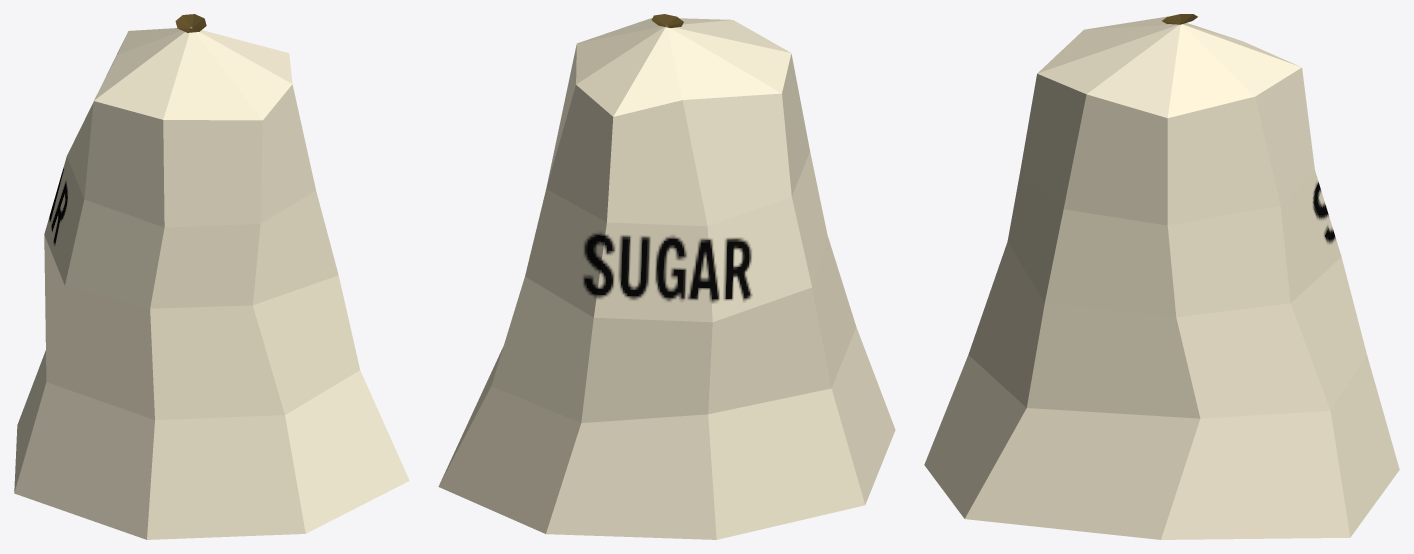
The model's file is SugarBag.fbx.
3 renders of one model, left to right at view 1: azimuth 30°, elevation 25°; view 2: azimuth 150°, elevation 25°; view 3: azimuth 270°, elevation 25°, orthographic. The views are drawn at different scales.
Visible parts, largest first — view 1: Cylinder; view 2: Cylinder; view 3: Cylinder.
Part boxes in pixels (box(x1,y1,x2,y2)): Cylinder: box(14, 14, 409, 539); Cylinder: box(438, 14, 895, 539); Cylinder: box(924, 14, 1399, 539).
Size of the model in its own units: 220 by 253 by 241.
